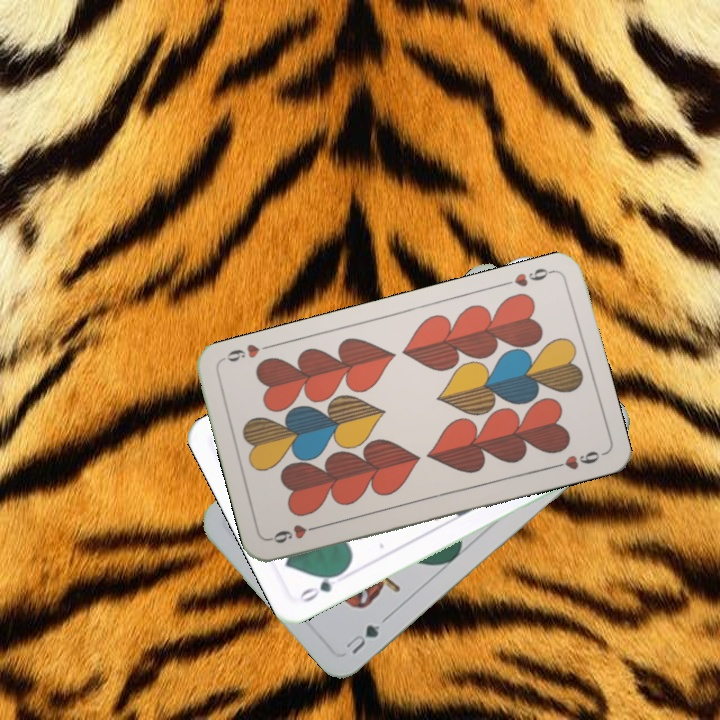GO: (294, 566, 347, 605)
GU: (341, 620, 383, 657)
H9: (266, 520, 325, 546), (510, 264, 557, 290)
